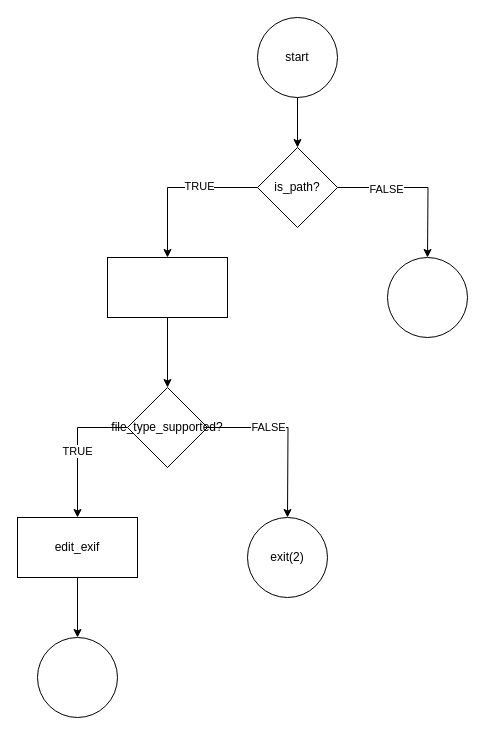
Some shapes in this 485 by 735 pixel diagram are drawn without their labels. The shapes that lost their labels are listed below. From the top down, each one's centre as x and y in pixels, then its label:
the point at 167,287: create list of files
the point at 427,297: exit(1)
the point at 77,677: finish
